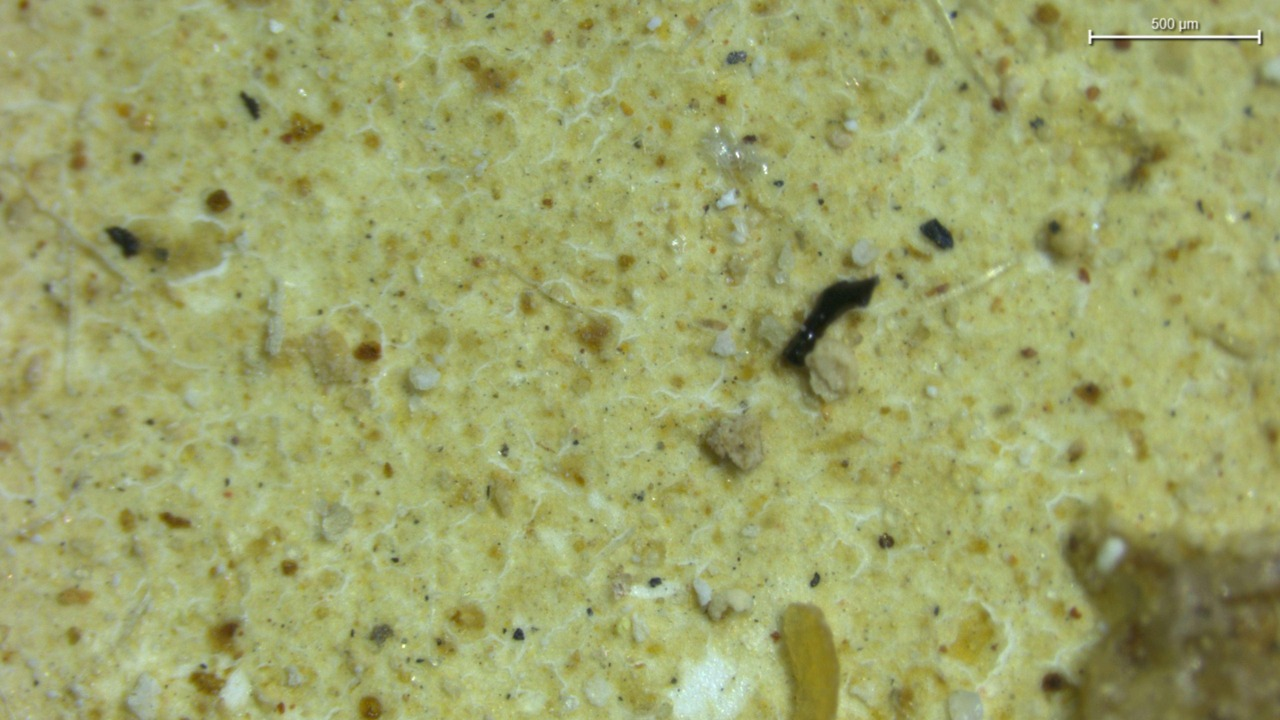microplastic_fragment: (699, 407, 769, 471), (695, 579, 748, 624), (408, 365, 444, 395), (853, 239, 880, 264), (711, 329, 735, 357)
